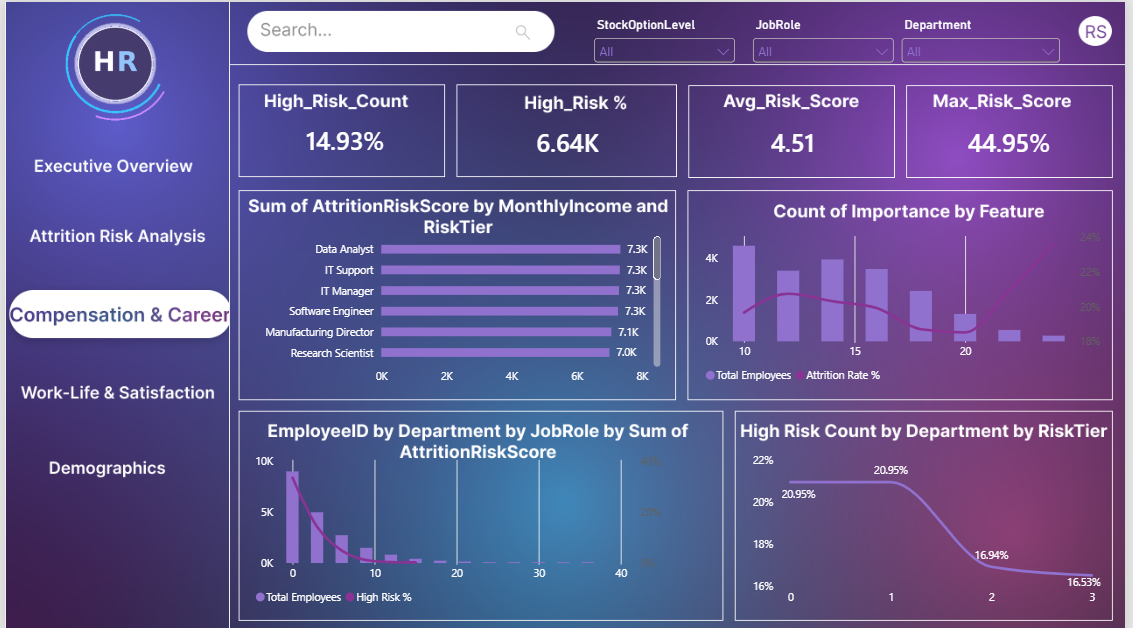

What the dashboard file says about the page in this screenshot:
{"tool":"powerbi","page":{"name":"Attrition Risk Analysis","canvas":[1280,720],"ordinal":2},"visuals":[{"type":"cardVisual","fields":{"Data":["Measure.High Risk Count"]},"box":[289.3,132.1,182.1,69],"z":0},{"type":"cardVisual","fields":{"Data":["Measure.High Risk %"]},"box":[535.7,132.1,222.6,69],"z":1000},{"type":"cardVisual","fields":{"Data":["Measure.Avg Risk Score"]},"box":[796.4,132.1,210.7,69],"z":2000},{"type":"cardVisual","fields":{"Data":["Measure.Max Risk Score"]},"box":[1035.7,132.1,223.8,69],"z":3000},{"type":"slicer","fields":{"Values":["Dim_Department.Department"]},"box":[829.8,16.7,189.3,67.9],"z":4000},{"type":"slicer","fields":{"Values":["Dim_RiskTier.RiskTier"]},"box":[631,16.7,190.5,51.2],"z":5000},{"type":"slicer","fields":{"Values":["Fact_HR.JobRole"]},"box":[1035.7,9.5,169,67.9],"z":6000},{"type":"columnChart","fields":{"Category":["Fact_HR.MonthlyIncome"],"Series":["Dim_RiskTier.RiskTier"],"Y":["Sum(Fact_HR.AttritionRiskScore)"]},"box":[270.2,266.7,488.1,185.7],"z":7000},{"type":"clusteredColumnChart","fields":{"Category":["feature_importance.Feature"],"Y":["CountNonNull(feature_importance.Importance)"]},"box":[784.5,254.8,475,197.6],"z":8000},{"type":"tableEx","fields":{"Values":["Fact_HR.EmployeeID","Dim_Department.Department","Dim_JobRole.JobRole","Sum(Fact_HR.AttritionRiskScore)"]},"box":[270.2,523.8,551.2,178.6],"z":9000},{"type":"donutChart","fields":{"Category":["Dim_Department.Department"],"Series":["Dim_RiskTier.RiskTier"],"Y":["Measure.High Risk Count"]},"box":[838.1,507.1,421.4,195.2],"z":10000},{"type":"actionButton","box":[0,339,253.6,40.5],"z":11000},{"type":"image","box":[0,0,252.1,141.2],"z":12000},{"type":"actionButton","box":[9.7,161.7,242.5,39.8],"z":12001},{"type":"actionButton","box":[9.7,427.1,242.5,39.8],"z":12002},{"type":"actionButton","box":[9.7,506.7,242.5,39.8],"z":12003},{"type":"actionButton","box":[9.7,257,242.5,39.8],"z":12004}]}

Visuals, with their boxes in screenshot pixels (x1, y1, x2, y2), scaled from the page's 1280x720 canvas onto the 1133x628 screenshot:
cardVisual - Measure.High Risk Count: x1=256 y1=115 x2=417 y2=175
cardVisual - Measure.High Risk %: x1=474 y1=115 x2=671 y2=175
cardVisual - Measure.Avg Risk Score: x1=705 y1=115 x2=891 y2=175
cardVisual - Measure.Max Risk Score: x1=917 y1=115 x2=1115 y2=175
slicer - Dim_Department.Department: x1=735 y1=15 x2=902 y2=74
slicer - Dim_RiskTier.RiskTier: x1=559 y1=15 x2=727 y2=59
slicer - Fact_HR.JobRole: x1=917 y1=8 x2=1066 y2=68
columnChart - Fact_HR.MonthlyIncome x Dim_RiskTier.RiskTier: x1=239 y1=233 x2=671 y2=395
clusteredColumnChart - feature_importance.Feature x CountNonNull(feature_importance.Importance): x1=694 y1=222 x2=1115 y2=395
tableEx - Fact_HR.EmployeeID x Dim_Department.Department: x1=239 y1=457 x2=727 y2=613
donutChart - Dim_Department.Department x Dim_RiskTier.RiskTier: x1=742 y1=442 x2=1115 y2=613
actionButton: x1=0 y1=296 x2=224 y2=331
image: x1=0 y1=0 x2=223 y2=123
actionButton: x1=9 y1=141 x2=223 y2=176
actionButton: x1=9 y1=373 x2=223 y2=407
actionButton: x1=9 y1=442 x2=223 y2=477
actionButton: x1=9 y1=224 x2=223 y2=259
